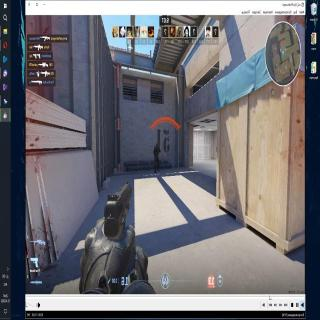CT-Body: (151, 144, 162, 174)
CT-Head: (155, 142, 158, 150)
